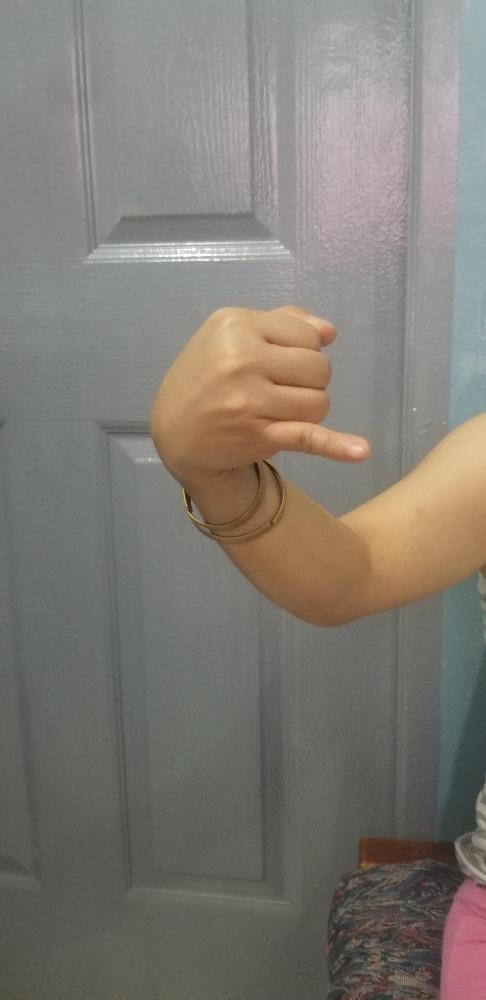j: (144, 304, 373, 465)
